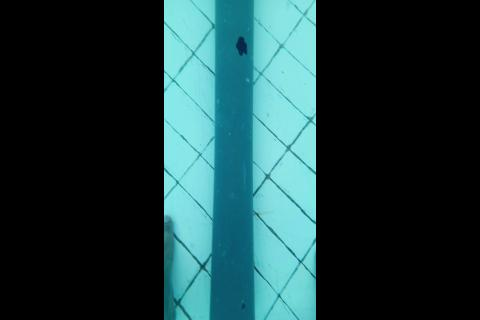kebocoran: (236, 33, 248, 57)
